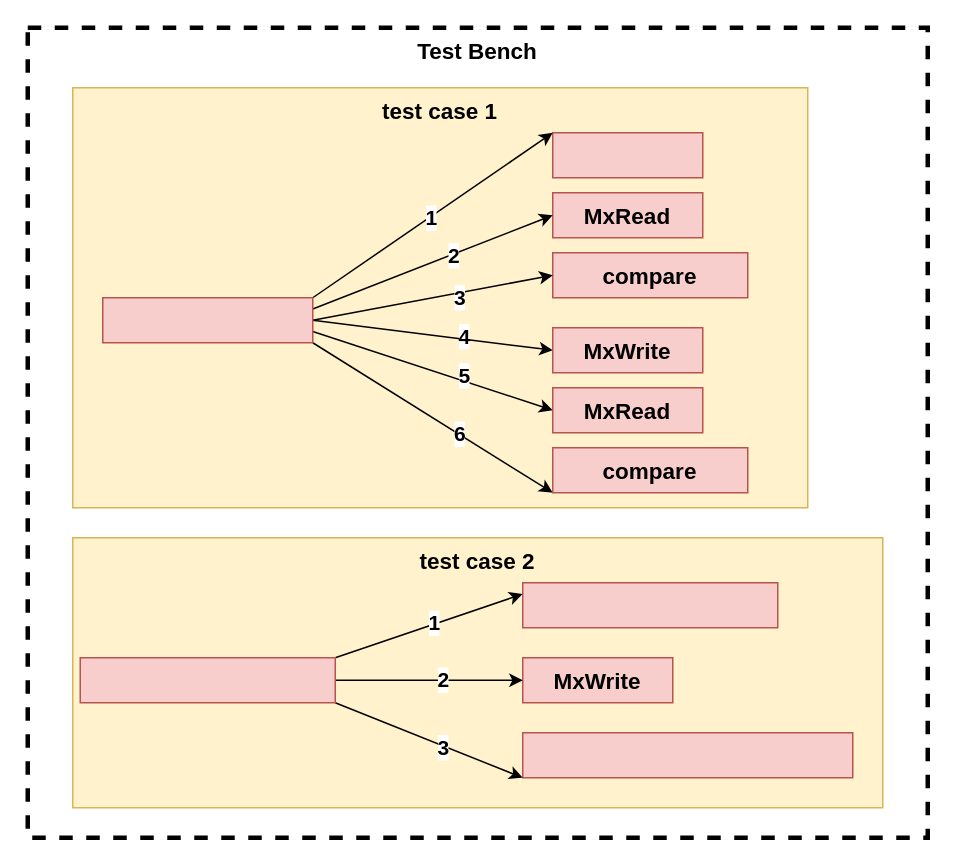
The diagram is 956 pixels wide and 866 high, and some of its shapes have lost their labels. Here are the shapes that lost their labels. From the top down, the centre of each, then its label:
[627,154]: MxErase
[207,319]: MxUserTest_RWE
[649,604]: MxDeepPowerDown
[207,679]: MxUserTest_DP
[687,754]: MxRealseDeepPowerDown
